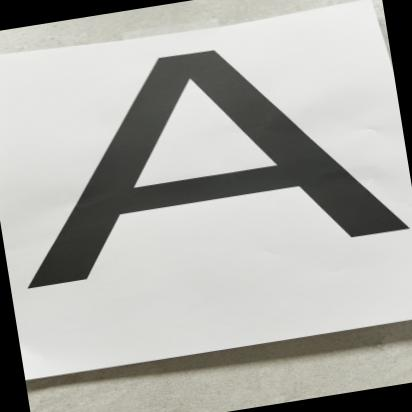seat: (0, 3, 412, 314)
